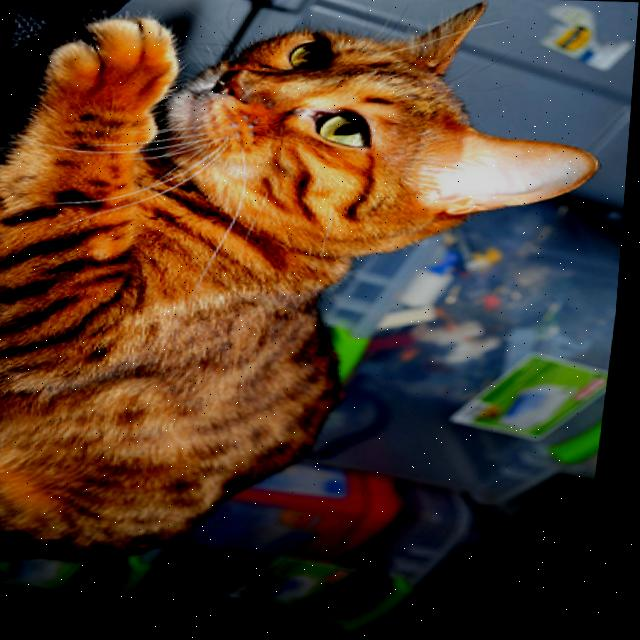Bengal: (0, 0, 635, 594)
